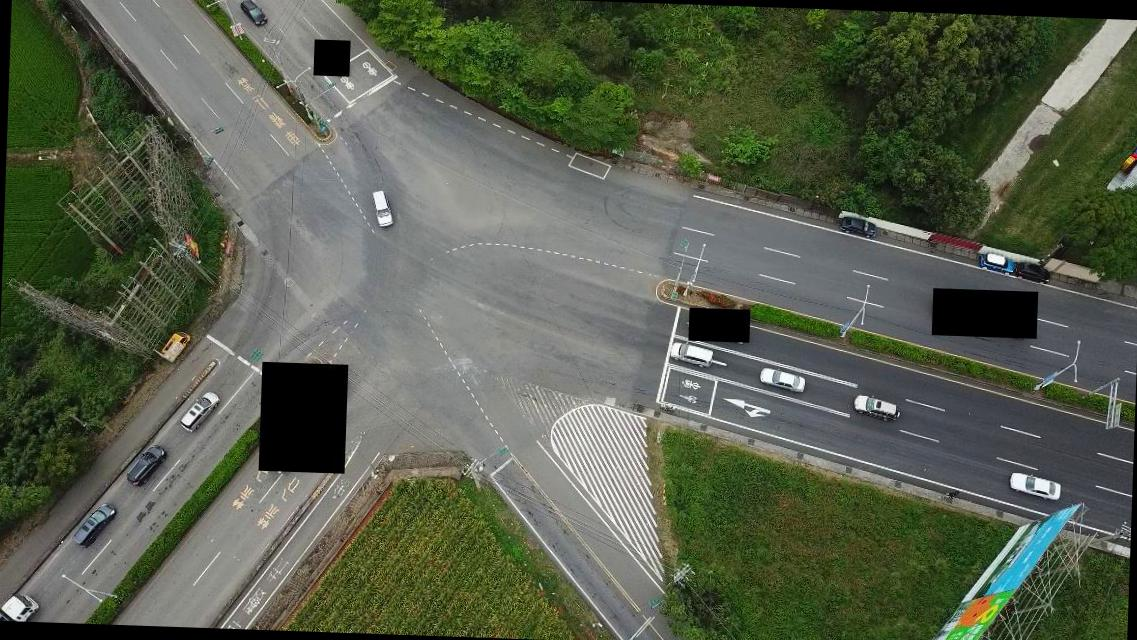vehicle: (72, 500, 115, 548), (180, 389, 220, 434), (126, 441, 166, 486), (1007, 472, 1062, 501), (853, 394, 900, 421), (669, 341, 714, 367), (758, 368, 806, 392), (370, 190, 396, 227), (978, 252, 1016, 276), (162, 328, 190, 359), (839, 216, 876, 238), (238, 0, 268, 26), (1014, 262, 1050, 282)
